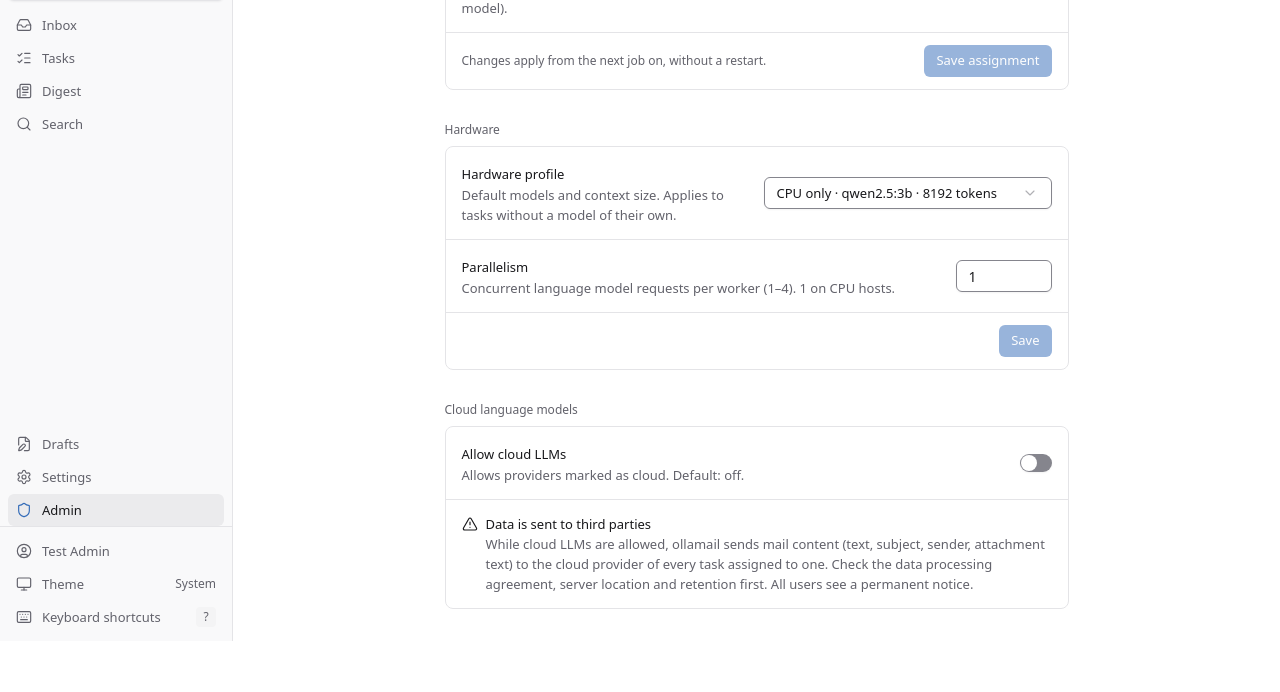
Test case: AI settings › asks for confirmation before allowing cloud LLMs
The image size is (1280, 692).
(page scrolled)
Check: the text "Data is sent to third parties" is shown, box [486,515,651,533]
Click the switch named "Allow cloud LLMs": [1036, 463] box [1020,454,1052,472]
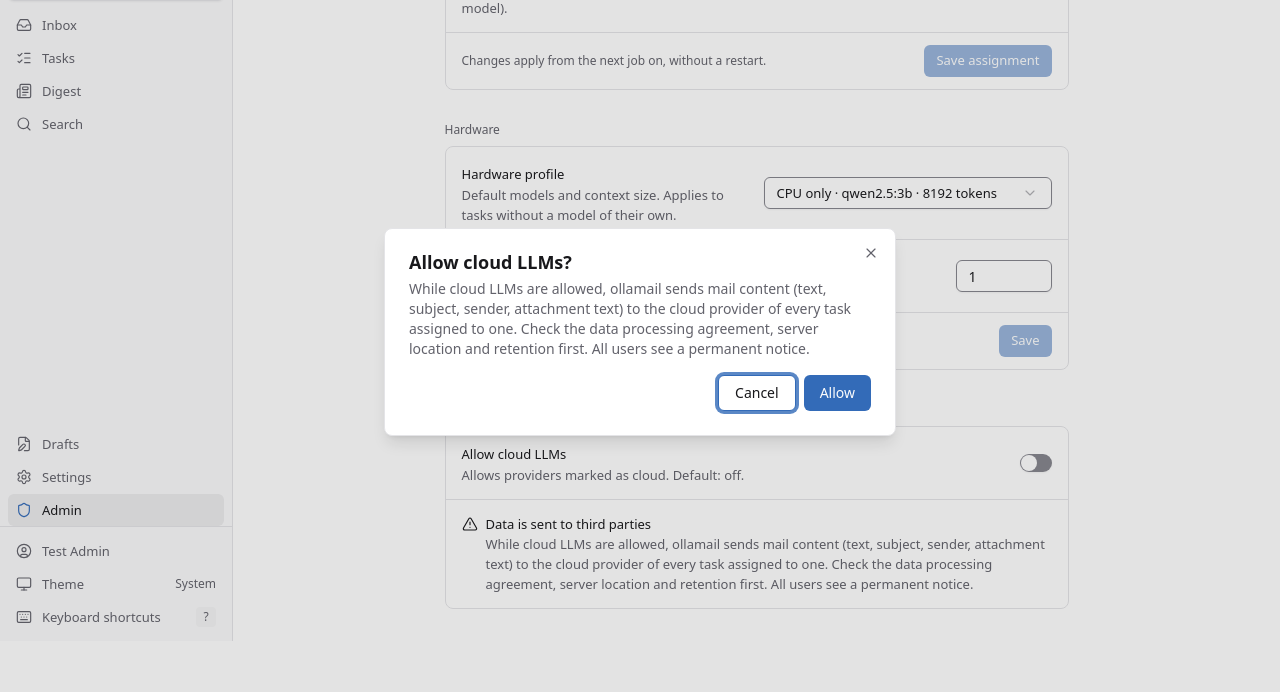
Click the button "Allow": [837, 393] box [804,375,871,411]
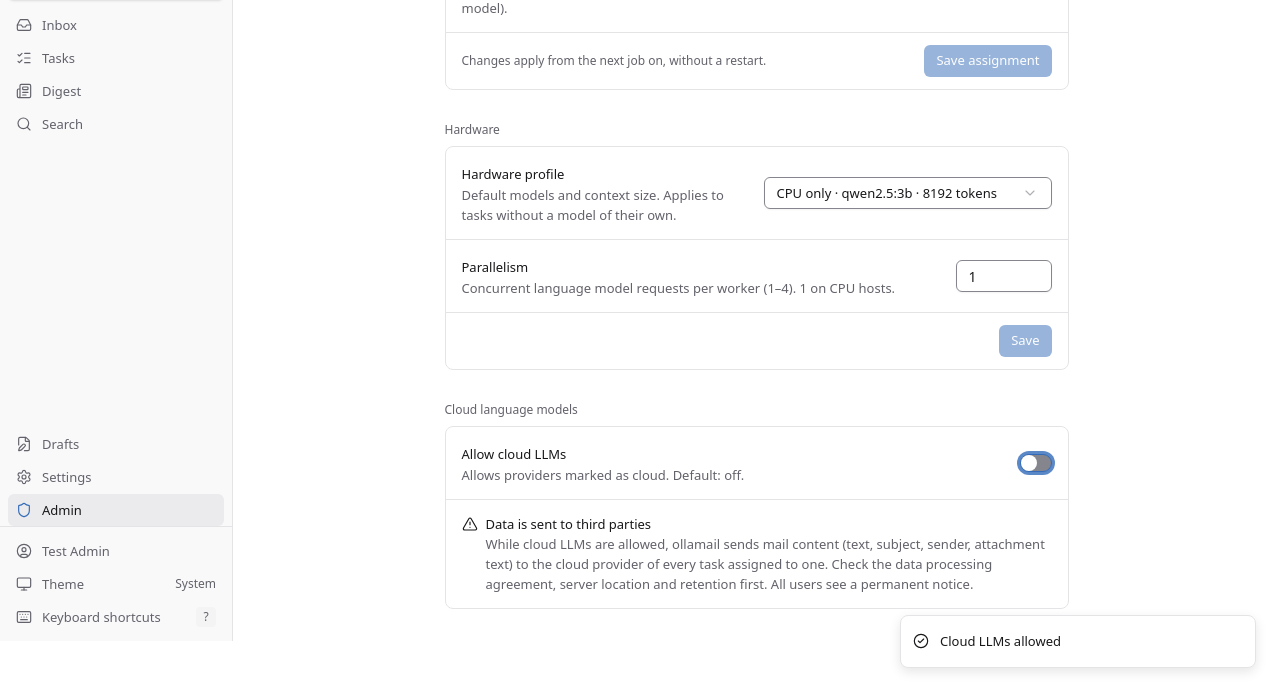
Check: the dialog is gone
